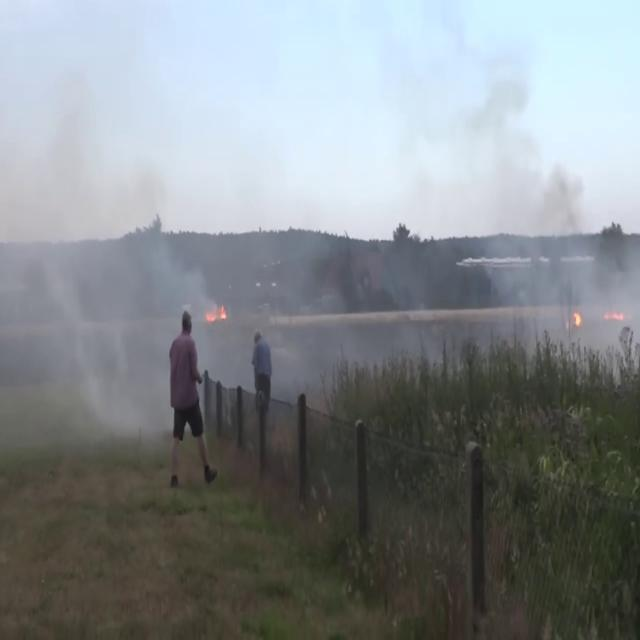Fire: (205, 296, 228, 327)
Smoke: (0, 110, 204, 460), (472, 65, 640, 382)
